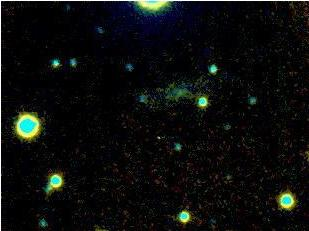star: (143, 124, 173, 154)
